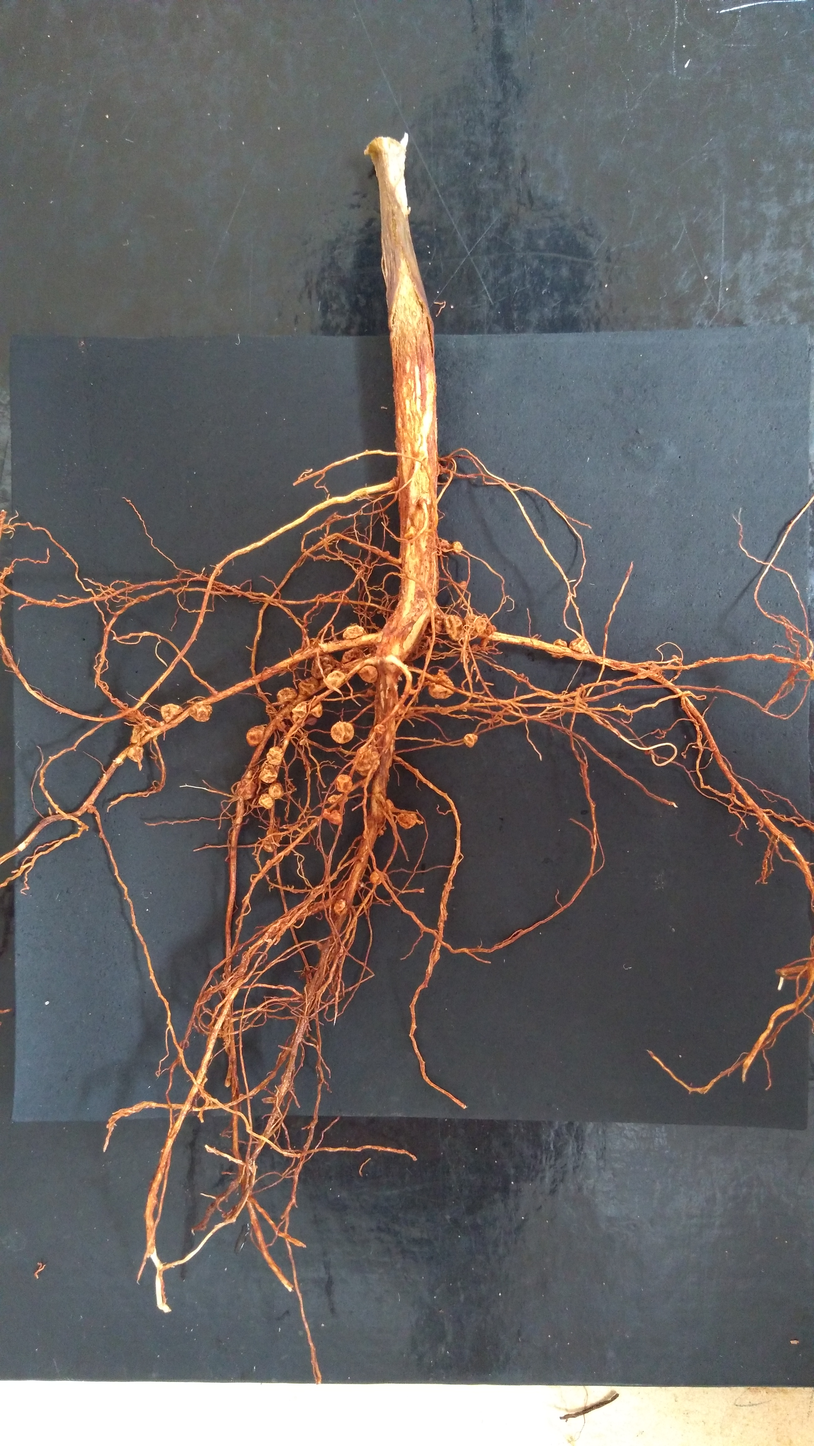nodule: (310, 653, 345, 680), (353, 745, 382, 777), (130, 717, 164, 743), (428, 669, 455, 699), (443, 614, 466, 642), (342, 625, 370, 648), (330, 721, 355, 744), (569, 636, 591, 660), (462, 614, 486, 634), (427, 612, 449, 633), (236, 778, 257, 800), (298, 676, 321, 696), (263, 828, 282, 852), (160, 704, 184, 723), (189, 703, 213, 722), (341, 647, 367, 664), (356, 664, 378, 684), (117, 706, 144, 722), (246, 725, 266, 746), (277, 687, 297, 707), (396, 811, 418, 829), (258, 764, 278, 783), (291, 711, 317, 725), (322, 808, 343, 825), (336, 774, 353, 793), (265, 746, 282, 765), (551, 639, 567, 659), (268, 780, 284, 799), (332, 898, 348, 916), (307, 700, 323, 718), (126, 746, 144, 762), (303, 637, 325, 649), (369, 869, 384, 885), (259, 793, 274, 808), (292, 701, 307, 716), (436, 537, 452, 551), (463, 733, 478, 747), (647, 662, 663, 675), (327, 794, 349, 803), (404, 525, 417, 539), (484, 624, 497, 636), (396, 702, 408, 715), (374, 723, 386, 735), (452, 541, 463, 553), (480, 637, 490, 648), (178, 1040, 190, 1049), (385, 798, 394, 809), (277, 721, 286, 732), (458, 580, 468, 589), (365, 688, 375, 697), (380, 550, 390, 558), (517, 673, 525, 683), (298, 738, 307, 745), (378, 828, 384, 836), (284, 850, 291, 856), (434, 704, 440, 708)
